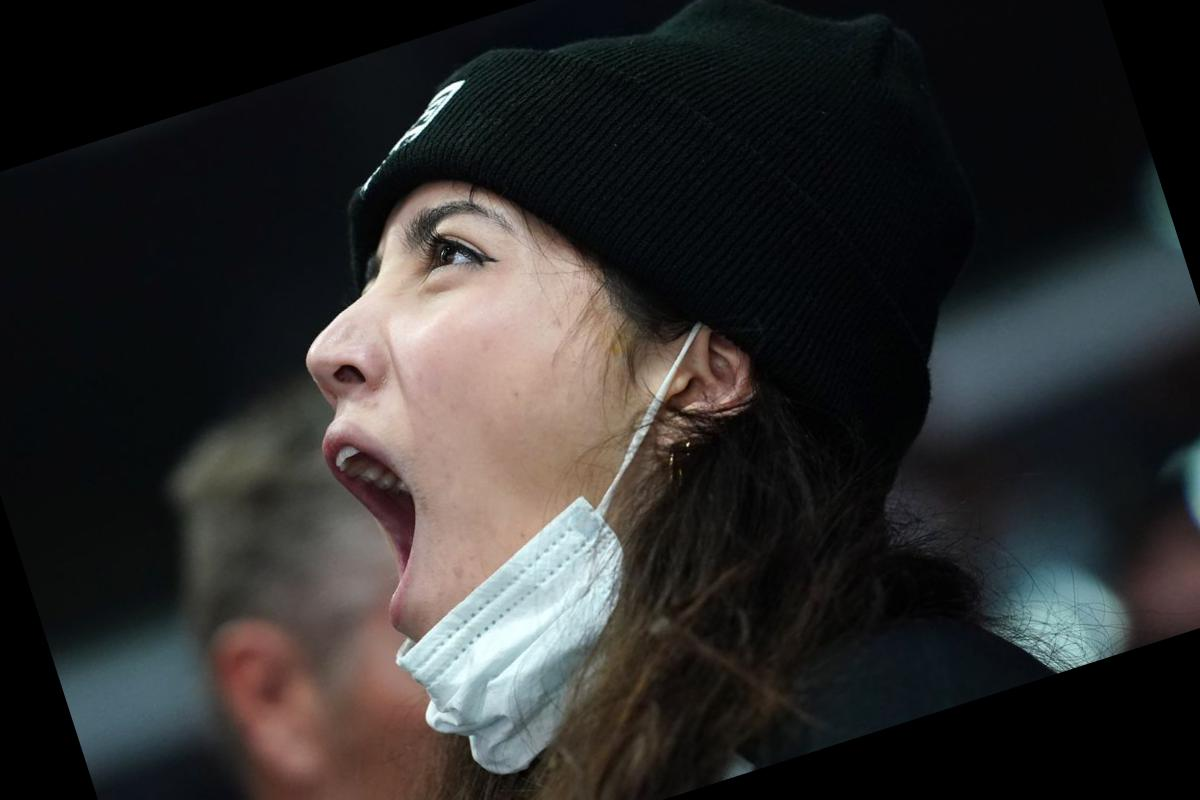mask_weared_incorrect: (208, 185, 720, 758)
